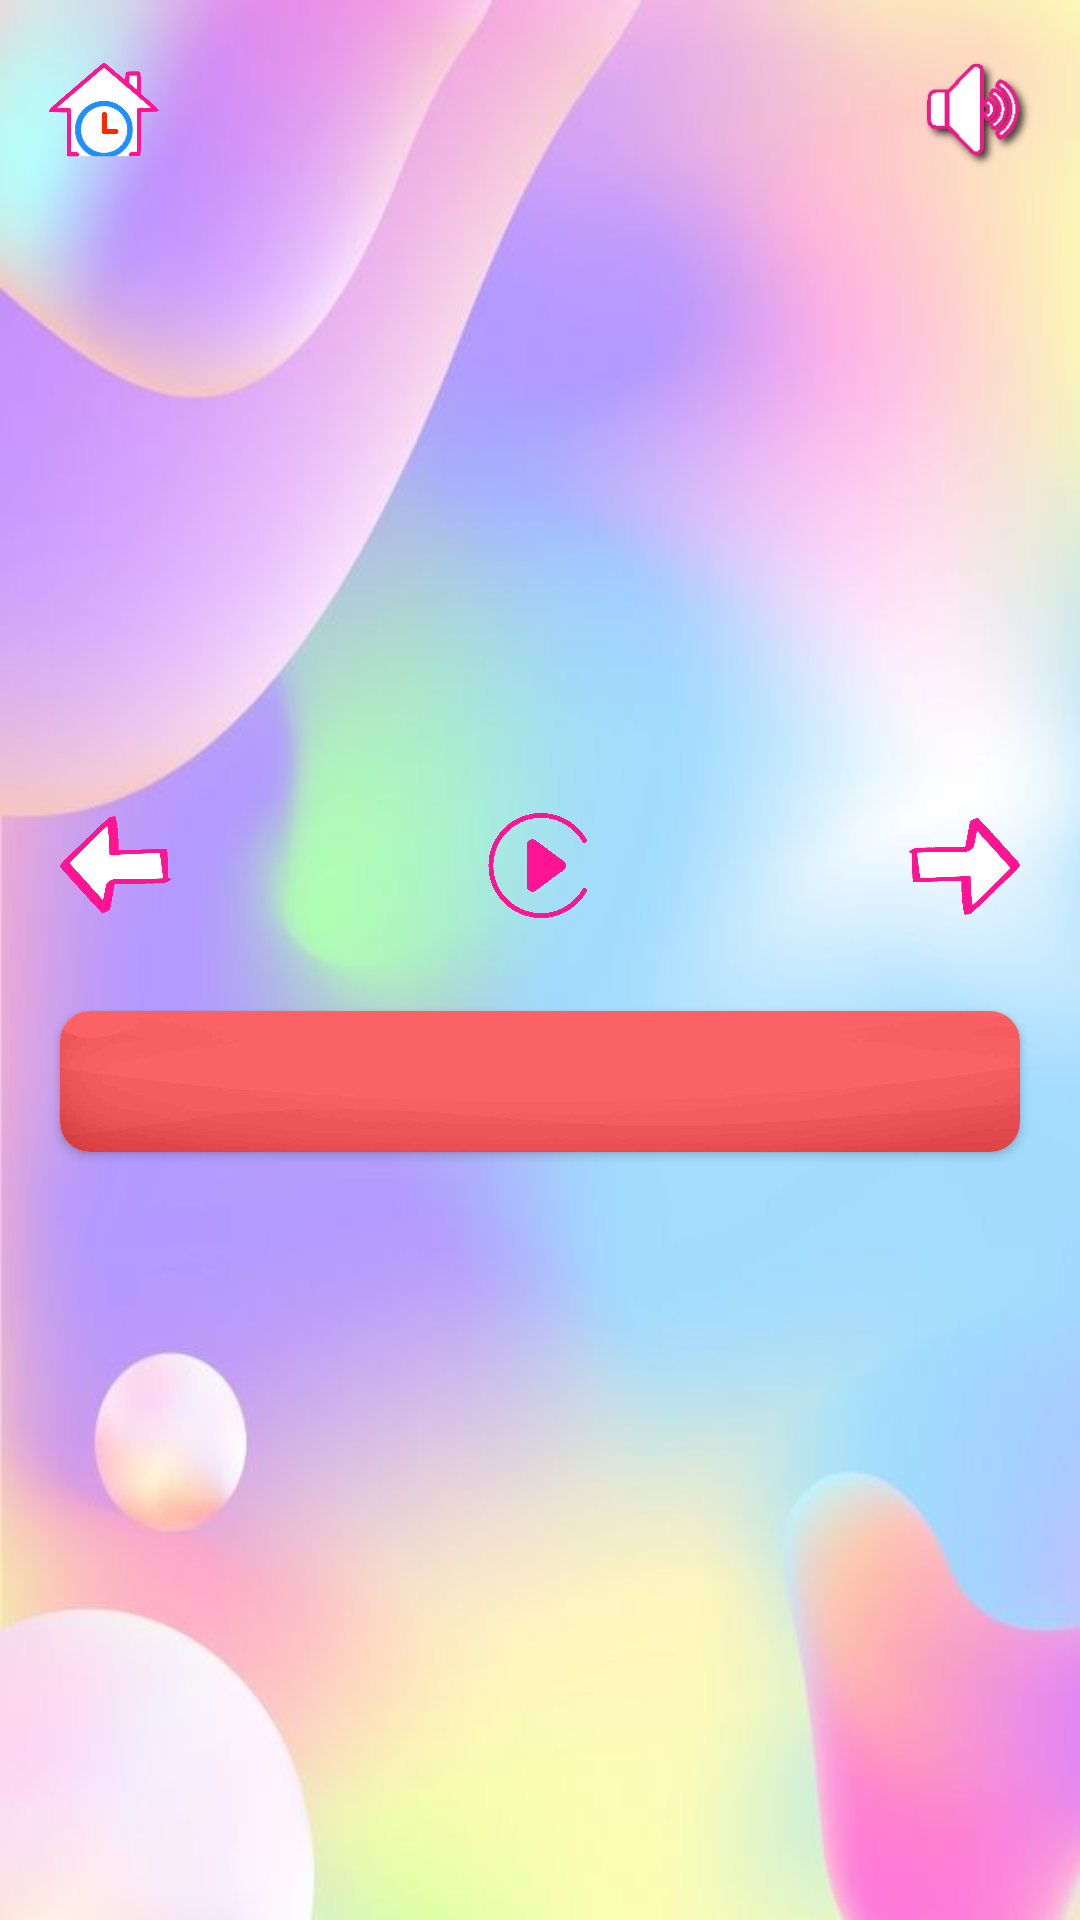

Screen size 1080w x 1920h. Icon name, then its center in pixels as (x,y):
back question: (115,865)
home: (105,111)
next question: (964,865)
play again: (536,865)
sound on: (976,113)
